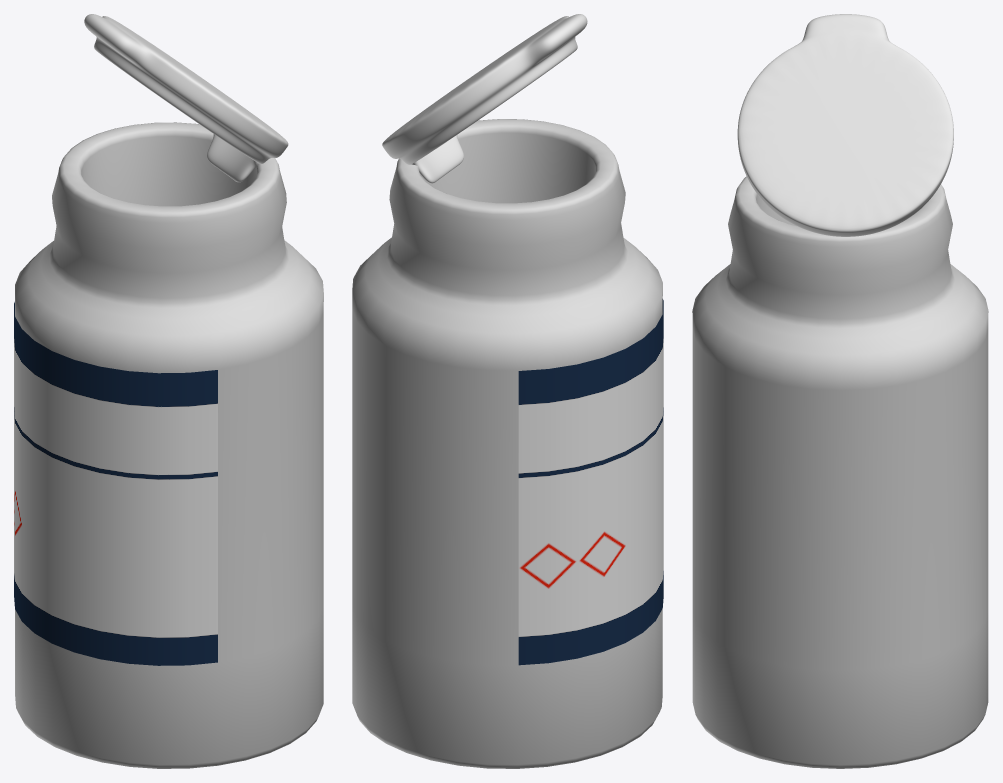
File: SodiumHydroxideBottle.fbx
3 renders of one model, left to right at view 1: azimuth 30°, elevation 25°; view 2: azimuth 150°, elevation 25°; view 3: azimuth 270°, elevation 25°, orthographic. The views are drawn at different scales.
Visible parts, largest first — view 1: SodiumHydroxideBottle, Label, SodiumHydroxideBottlecap; view 2: SodiumHydroxideBottle, Label, SodiumHydroxideBottlecap; view 3: SodiumHydroxideBottle, SodiumHydroxideBottlecap.
Part boxes in pixels (<box>): SodiumHydroxideBottle: <box>15,122,323,768</box>; Label: <box>14,302,217,665</box>; SodiumHydroxideBottlecap: <box>84,14,288,182</box>; SodiumHydroxideBottle: <box>352,119,662,768</box>; Label: <box>518,299,663,665</box>; SodiumHydroxideBottlecap: <box>382,14,587,183</box>; SodiumHydroxideBottle: <box>692,176,988,768</box>; SodiumHydroxideBottlecap: <box>737,14,953,236</box>.
Bounding box in the file's own units: 49.13 × 122 × 48.98.
